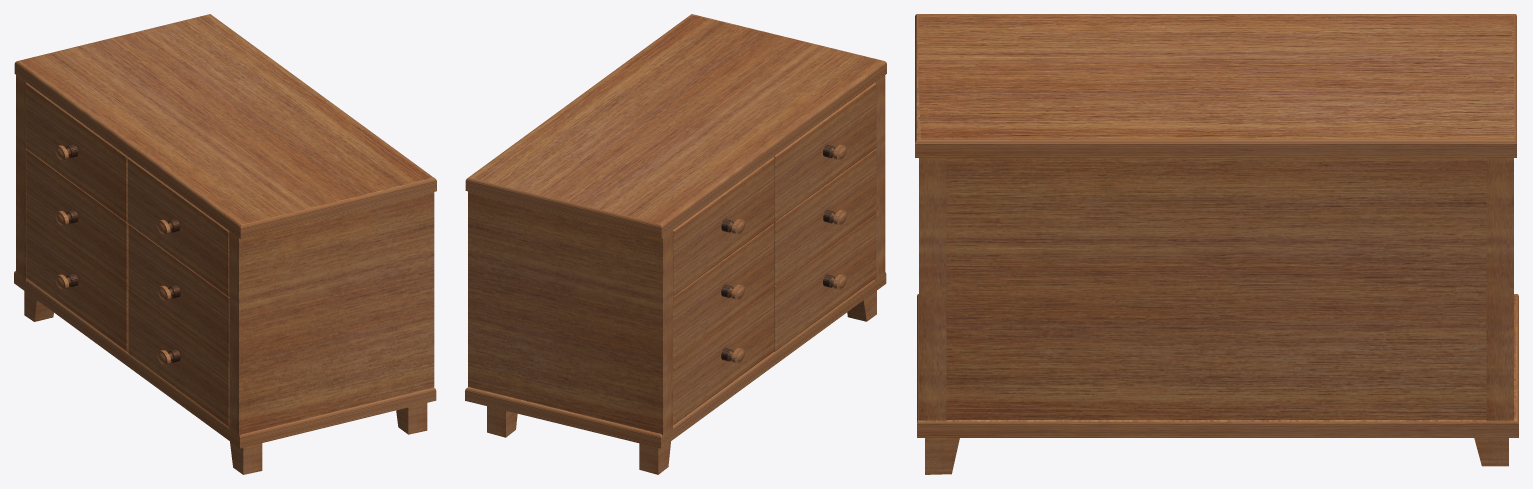
The model's file is Cajonera.obj.
3 renders of one model, left to right at view 1: azimuth 30°, elevation 25°; view 2: azimuth 150°, elevation 25°; view 3: azimuth 270°, elevation 25°, orthographic. The views are drawn at different scales.
Visible parts, largest first — view 1: Cajonera:Cajonera5:Cajonera3:Cajonera3:Cajonera5:Cajonera3:Cajon, Cajonera:Cajonera5:Cajonera3:Cajonera5:Cajonera9:textureEditorIs, Cajonera:Cajonera5:Cajonera3:Cajonera5:group8 Cajonera:Cajonera5, Cajonera:Cajonera5:Cajonera3:Cajonera5:Cajonera11:Cajonera5:Cajo, Cajonera:Cajonera5:Cajonera3:Cajonera5:Cajonera8:Cajonera5:Cajon, Cajonera:Cajonera5:Cajonera3:Cajonera5:Cajonera9:Cajonera5:Cajon, Cajonera:Cajonera5:Cajonera3:Cajonera5:Cajonera7:Cajonera5:Cajon, Cajonera:Cajonera5:Cajonera3:Cajonera5:Cajonera12:Cajonera5:Cajo, Cajonera:Cajonera5:Cajonera3:Cajonera5:Dresser_Unit_Group Cajone, Cajonera:Cajonera5:Cajonera3:Cajonera5:Cajonera15:Cajonera5:Cajo, Cajonera:Cajonera5:Cajonera3:Cajonera5:Cajonera16:Cajonera5:Cajo, Cajonera:Cajonera5:Cajonera3:Cajonera5:pCube1; view 2: Cajonera:Cajonera5:Cajonera3:Cajonera3:Cajonera5:Cajonera3:Cajon, Cajonera:Cajonera5:Cajonera3:Cajonera5:Cajonera9:textureEditorIs, Cajonera:Cajonera5:Cajonera3:Cajonera5:group8 Cajonera:Cajonera5, Cajonera:Cajonera5:Cajonera3:Cajonera5:Cajonera11:Cajonera5:Cajo, Cajonera:Cajonera5:Cajonera3:Cajonera5:Cajonera9:Cajonera5:Cajon, Cajonera:Cajonera5:Cajonera3:Cajonera5:Cajonera12:Cajonera5:Cajo, Cajonera:Cajonera5:Cajonera3:Cajonera5:Cajonera8:Cajonera5:Cajon, Cajonera:Cajonera5:Cajonera3:Cajonera5:Cajonera7:Cajonera5:Cajon, Cajonera:Cajonera5:Cajonera3:Cajonera5:Dresser_Unit_Group Cajone, Cajonera:Cajonera5:Cajonera3:Cajonera5:pCube1, Cajonera:Cajonera5:Cajonera3:Cajonera5:Cajonera17:Cajonera5:Cajo, Cajonera:Cajonera5:Cajonera3:Cajonera5:Cajonera15:Cajonera5:Cajo; view 3: Cajonera:Cajonera5:Cajonera3:Cajonera5:group8 Cajonera:Cajonera5, Cajonera:Cajonera5:Cajonera3:Cajonera5:Cajonera9:textureEditorIs, Cajonera:Cajonera5:Cajonera3:Cajonera3:Cajonera5:Cajonera3:Cajon, Cajonera:Cajonera5:Cajonera3:Cajonera5:Dresser_Unit_Group Cajone, Cajonera:Cajonera5:Cajonera3:Cajonera5:Cajonera16:Cajonera5:Cajo, Cajonera:Cajonera5:Cajonera3:Cajonera5:Cajonera17:Cajonera5:Cajo.
Boxes of the visible parts, x1,y1,x2,y2 form: Cajonera:Cajonera5:Cajonera3:Cajonera3:Cajonera5:Cajonera3:Cajon: (16,75,434,436); Cajonera:Cajonera5:Cajonera3:Cajonera5:Cajonera9:textureEditorIs: (19,14,432,224); Cajonera:Cajonera5:Cajonera3:Cajonera5:group8 Cajonera:Cajonera5: (14,14,436,238); Cajonera:Cajonera5:Cajonera3:Cajonera5:Cajonera11:Cajonera5:Cajo: (127,157,229,296); Cajonera:Cajonera5:Cajonera3:Cajonera5:Cajonera8:Cajonera5:Cajon: (26,149,128,286); Cajonera:Cajonera5:Cajonera3:Cajonera5:Cajonera9:Cajonera5:Cajon: (128,224,229,362); Cajonera:Cajonera5:Cajonera3:Cajonera5:Cajonera7:Cajonera5:Cajon: (26,214,128,351); Cajonera:Cajonera5:Cajonera3:Cajonera5:Cajonera12:Cajonera5:Cajo: (128,289,229,427); Cajonera:Cajonera5:Cajonera3:Cajonera5:Dresser_Unit_Group Cajone: (14,271,436,448); Cajonera:Cajonera5:Cajonera3:Cajonera5:Cajonera15:Cajonera5:Cajo: (230,441,262,474); Cajonera:Cajonera5:Cajonera3:Cajonera5:Cajonera16:Cajonera5:Cajo: (396,403,427,434); Cajonera:Cajonera5:Cajonera3:Cajonera5:pCube1: (24,291,53,321); Cajonera:Cajonera5:Cajonera3:Cajonera3:Cajonera5:Cajonera3:Cajon: (468,75,885,437); Cajonera:Cajonera5:Cajonera3:Cajonera5:Cajonera9:textureEditorIs: (470,14,882,223); Cajonera:Cajonera5:Cajonera3:Cajonera5:group8 Cajonera:Cajonera5: (465,14,886,296); Cajonera:Cajonera5:Cajonera3:Cajonera5:Cajonera11:Cajonera5:Cajo: (774,82,876,222); Cajonera:Cajonera5:Cajonera3:Cajonera5:Cajonera9:Cajonera5:Cajon: (774,148,876,285); Cajonera:Cajonera5:Cajonera3:Cajonera5:Cajonera12:Cajonera5:Cajo: (774,214,876,351); Cajonera:Cajonera5:Cajonera3:Cajonera5:Cajonera8:Cajonera5:Cajon: (673,223,774,361); Cajonera:Cajonera5:Cajonera3:Cajonera5:Cajonera7:Cajonera5:Cajon: (673,288,774,425); Cajonera:Cajonera5:Cajonera3:Cajonera5:Dresser_Unit_Group Cajone: (465,272,886,448); Cajonera:Cajonera5:Cajonera3:Cajonera5:pCube1: (639,441,670,474); Cajonera:Cajonera5:Cajonera3:Cajonera5:Cajonera17:Cajonera5:Cajo: (487,406,517,437); Cajonera:Cajonera5:Cajonera3:Cajonera5:Cajonera15:Cajonera5:Cajo: (847,291,876,321); Cajonera:Cajonera5:Cajonera3:Cajonera5:group8 Cajonera:Cajonera5: (915,14,1516,419); Cajonera:Cajonera5:Cajonera3:Cajonera5:Cajonera9:textureEditorIs: (918,14,1513,138); Cajonera:Cajonera5:Cajonera3:Cajonera3:Cajonera5:Cajonera3:Cajon: (919,158,1513,420); Cajonera:Cajonera5:Cajonera3:Cajonera5:Dresser_Unit_Group Cajone: (917,294,1518,437); Cajonera:Cajonera5:Cajonera3:Cajonera5:Cajonera16:Cajonera5:Cajo: (925,438,959,474); Cajonera:Cajonera5:Cajonera3:Cajonera5:Cajonera17:Cajonera5:Cajo: (1474,438,1508,466).
Bounding box in the file's own units: 3.55 × 4 × 6.48.
Materials: 33 (33 with a texture image).
